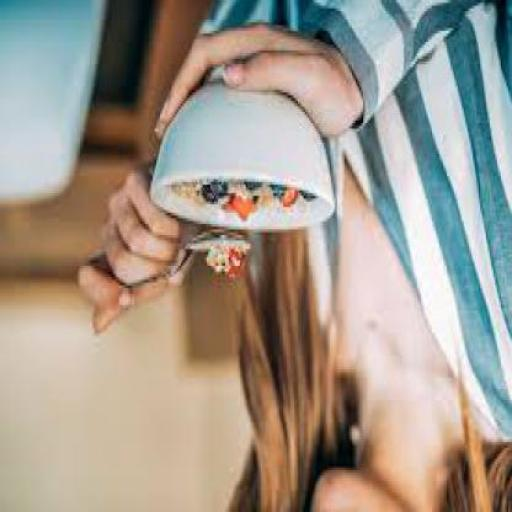biodegradable: (203, 249, 243, 283), (228, 202, 247, 226), (168, 188, 200, 198), (197, 190, 214, 208), (251, 187, 268, 204), (216, 196, 231, 213), (210, 185, 223, 204), (225, 184, 240, 199), (278, 192, 292, 208), (236, 188, 258, 198), (252, 198, 266, 213), (270, 190, 283, 205), (294, 196, 312, 206)
metal: (125, 232, 248, 294)
